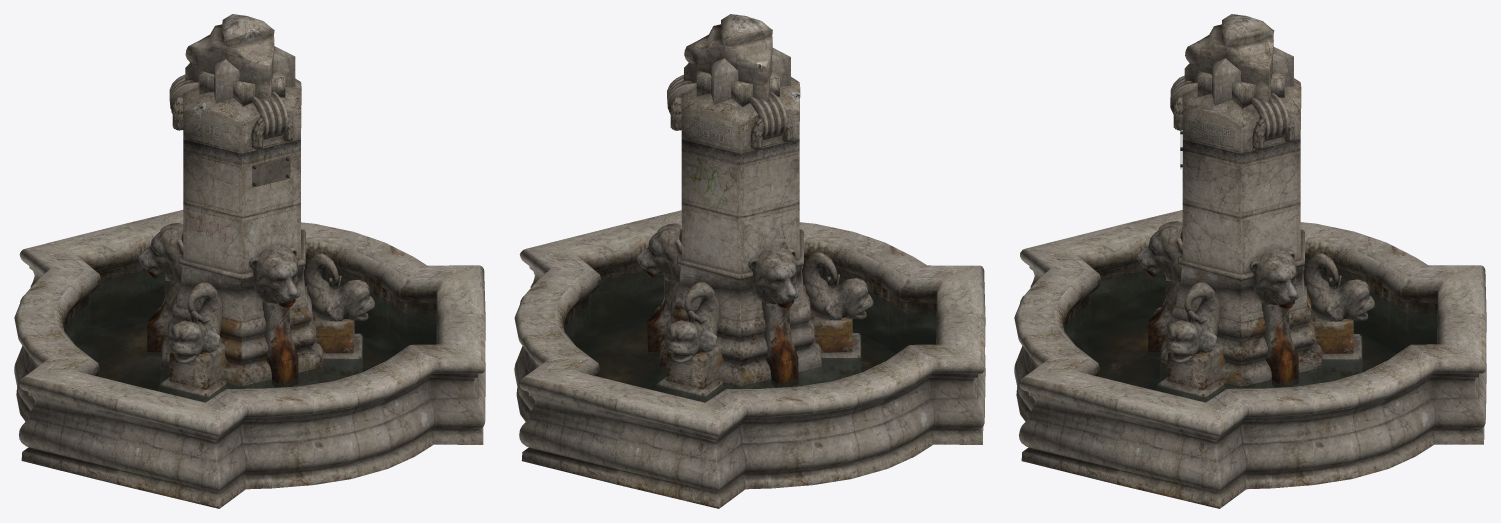
File: fountain-transformed.glb
3 renders of one model, left to right at view 1: azimuth 30°, elevation 25°; view 2: azimuth 150°, elevation 25°; view 3: azimuth 270°, elevation 25°, orthographic.
Parts seen in each view (by area): view 1: ValenciaFountain, Water; view 2: ValenciaFountain, Water; view 3: ValenciaFountain, Water.
Boxes of the visible parts, box(x1,y1,x2,y2) form: ValenciaFountain: box(14, 14, 485, 508); Water: box(63, 270, 436, 402); ValenciaFountain: box(514, 14, 985, 508); Water: box(564, 271, 936, 402); ValenciaFountain: box(1014, 14, 1486, 508); Water: box(1063, 270, 1437, 402).
Size of what is drawn, in the model's own units: 881 by 686 by 774.
Materials: 3 (3 with a texture image).
